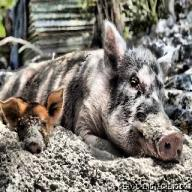boar: (0, 20, 183, 162)
